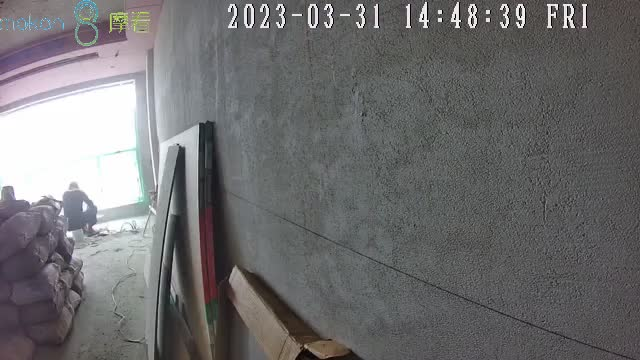people: (61, 181, 100, 235)
window: (2, 85, 144, 218)
